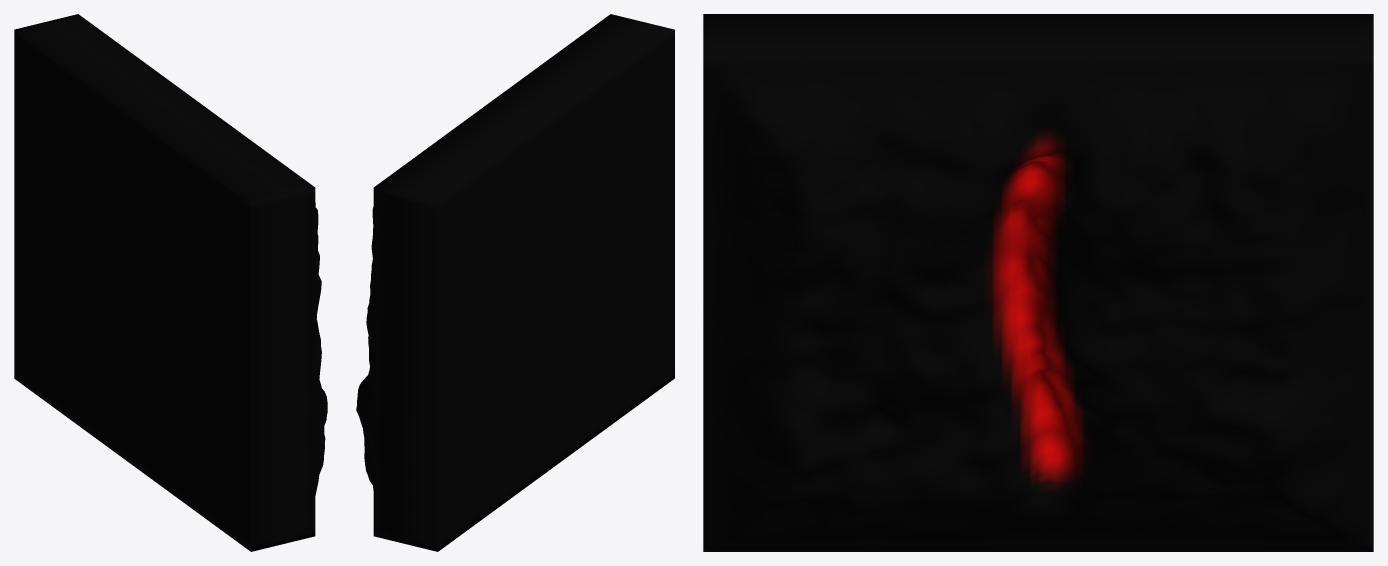
The model's file is SM_Mine_OreVein_Cracked.fbx.
The picture shows the model from 3 angles, left to right: view 1: azimuth 30°, elevation 25°; view 2: azimuth 150°, elevation 25°; view 3: azimuth 270°, elevation 25°; orthographic projection. The views are drawn at different scales.
Visible parts, largest first — view 1: SM_Mine_OreVein_Cracked; view 2: SM_Mine_OreVein_Cracked; view 3: SM_Mine_OreVein_Cracked.
Part boxes in pixels (x1=…): SM_Mine_OreVein_Cracked: x1=14, y1=14, x2=327, y2=551; SM_Mine_OreVein_Cracked: x1=356, y1=14, x2=674, y2=551; SM_Mine_OreVein_Cracked: x1=703, y1=14, x2=1373, y2=551.
Bounding box in the file's own units: 0.8968 × 2.6 × 3.2.
